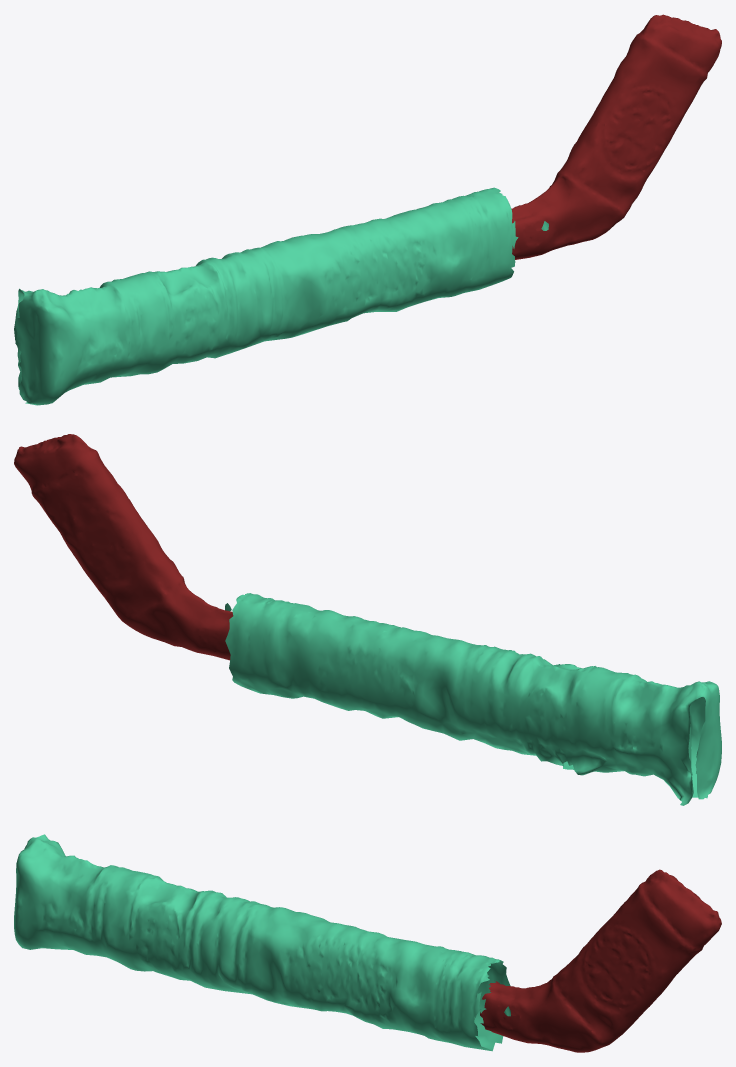
The model's file is object_deformed_8.obj.
3 views of the same model, one above another, from view 1: azimuth 30°, elevation 25°; view 2: azimuth 150°, elevation 25°; view 3: azimuth 330°, elevation 25° (orthographic). The views are drawn at different scales.
Size of the model in its own units: 0.6063 by 0.1843 by 0.0614.
